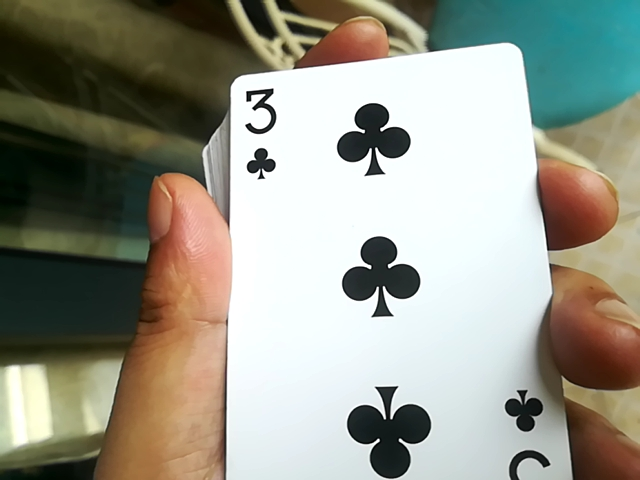mh 3: (219, 49, 560, 476)
